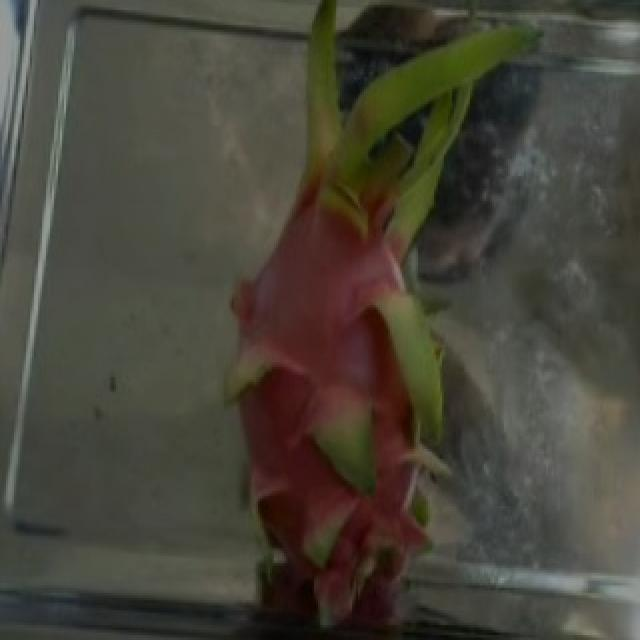fruit: (178, 208, 536, 632), (188, 2, 534, 407)
